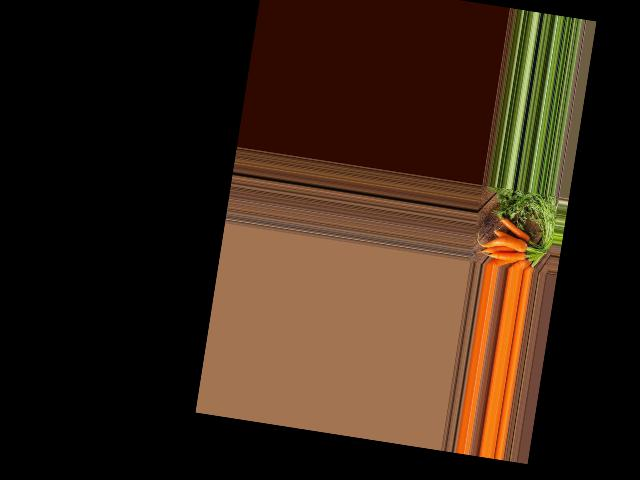carrot: (510, 253, 533, 272)
